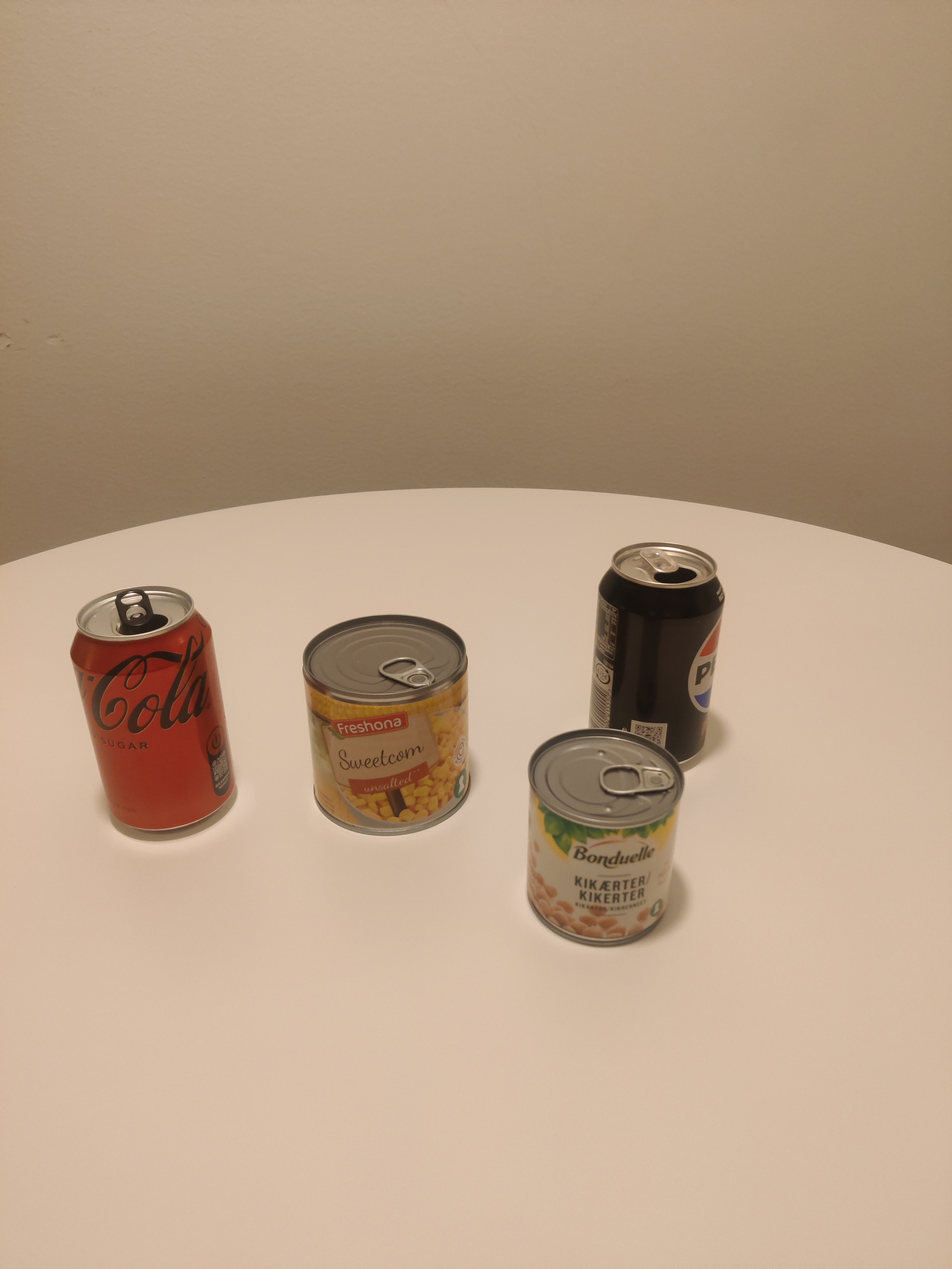Konservburk: (301, 612, 490, 839), (527, 726, 686, 945)
Pantburk: (70, 584, 237, 832), (590, 539, 749, 762)
